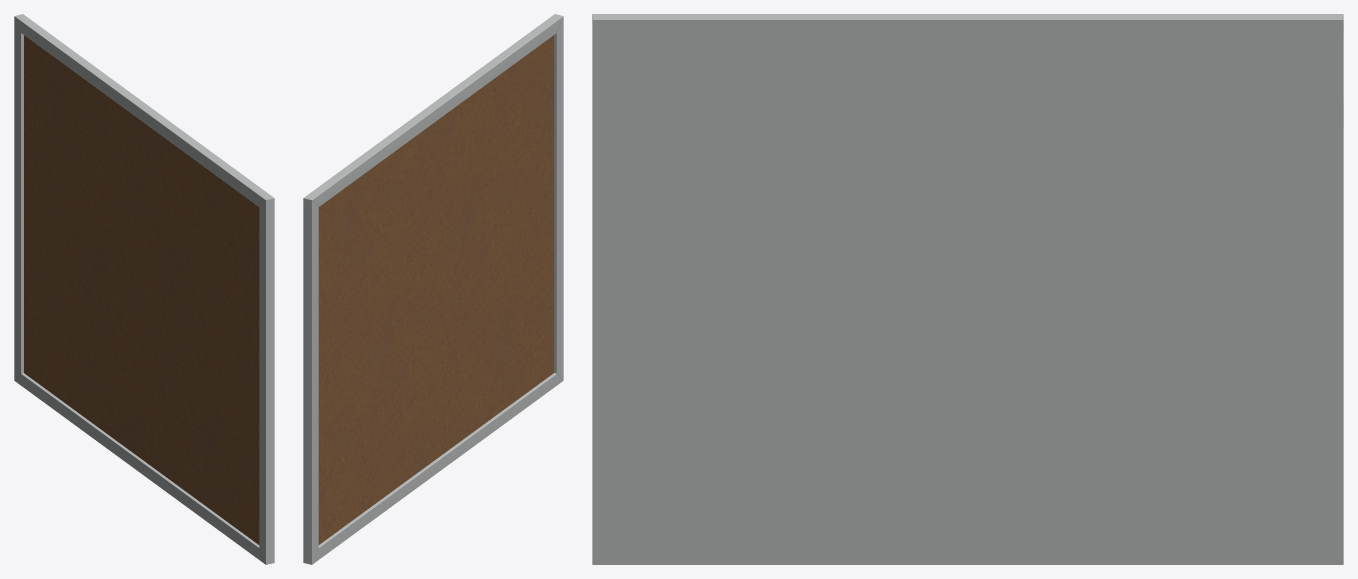
File: SM_Corkboard_150.fbx
3 views of the same model, side by side, from view 1: azimuth 30°, elevation 25°; view 2: azimuth 150°, elevation 25°; view 3: azimuth 270°, elevation 25° (orthographic). The views are drawn at different scales.
Parts seen in each view (by area): view 1: SM_Corkboard_150_LOD0; view 2: SM_Corkboard_150_LOD0; view 3: SM_Corkboard_150_LOD0.
Part boxes in pixels (x1=…): SM_Corkboard_150_LOD0: x1=14, y1=14, x2=274, y2=564; SM_Corkboard_150_LOD0: x1=303, y1=14, x2=563, y2=564; SM_Corkboard_150_LOD0: x1=592, y1=14, x2=1343, y2=564.
Bounding box in the file's own units: 3 × 150 × 120.
